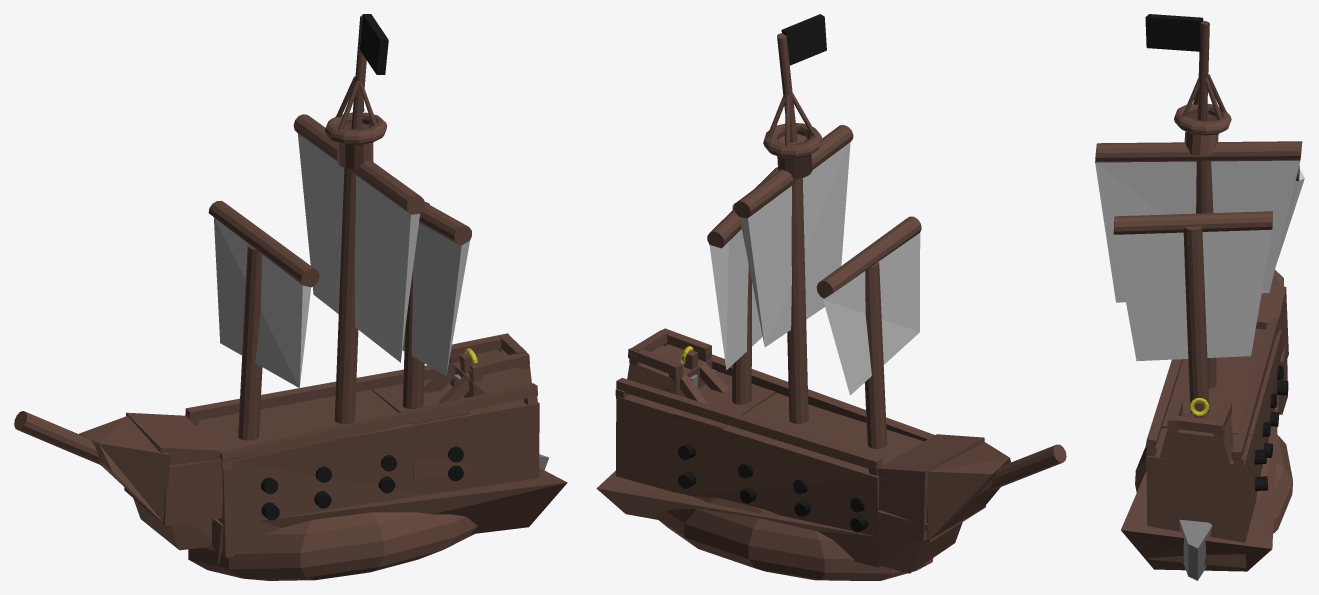
File: pirateShip_animation_v003.dae
3 views of the same model, side by side, from view 1: azimuth 30°, elevation 25°; view 2: azimuth 150°, elevation 25°; view 3: azimuth 270°, elevation 25° (orthographic). The views are drawn at different scales.
Parts seen in each view (by area): view 1: pirateShip_resized_animation_v003; view 2: pirateShip_resized_animation_v003; view 3: pirateShip_resized_animation_v003.
Part boxes in pixels (x1=…): pirateShip_resized_animation_v003: x1=14, y1=14, x2=567, y2=580; pirateShip_resized_animation_v003: x1=596, y1=14, x2=1066, y2=580; pirateShip_resized_animation_v003: x1=1095, y1=14, x2=1304, y2=580.
Bounding box in the file's own units: 558 × 589 × 220.
